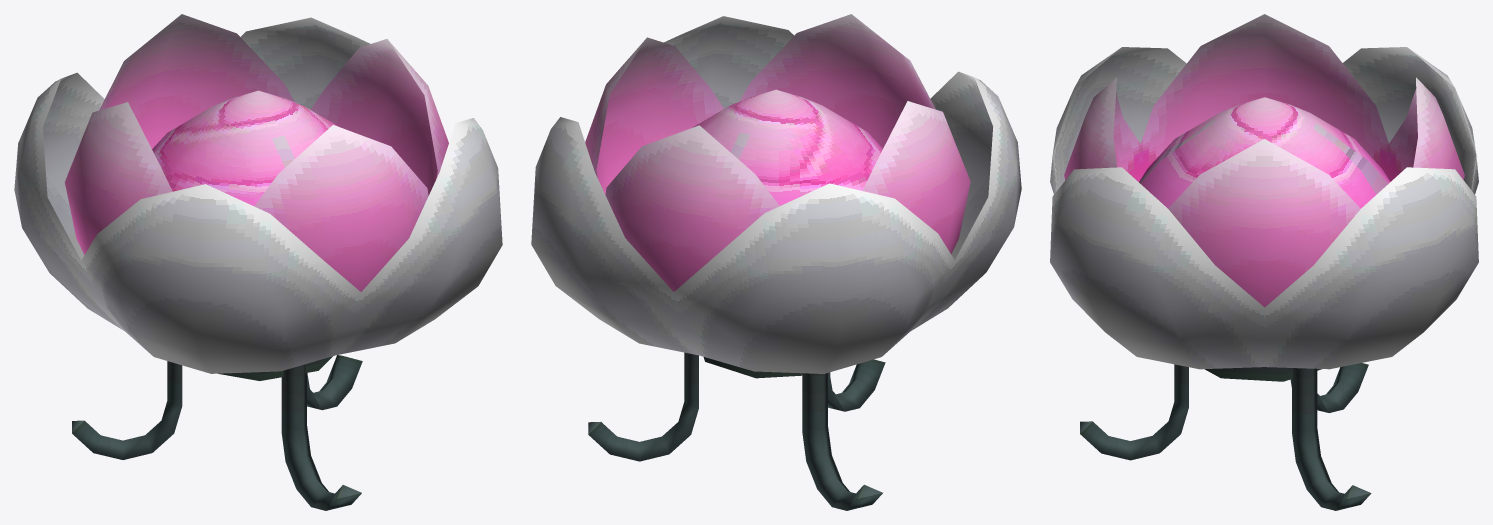
Rendered from rmk_oth_lotuslamp.dae.
3 views of the same model, side by side, from view 1: azimuth 30°, elevation 25°; view 2: azimuth 150°, elevation 25°; view 3: azimuth 270°, elevation 25° (orthographic).
Visible parts, largest first — view 1: rmk_oth_lotuslamp; view 2: rmk_oth_lotuslamp; view 3: rmk_oth_lotuslamp.
Part boxes in pixels (bbox=[...]): rmk_oth_lotuslamp: bbox=[14, 14, 502, 510]; rmk_oth_lotuslamp: bbox=[531, 14, 1021, 510]; rmk_oth_lotuslamp: bbox=[1050, 14, 1478, 510].
Bounding box in the file's own units: 13.14 × 12.8 × 13.14.
3 materials, 3 textured.
